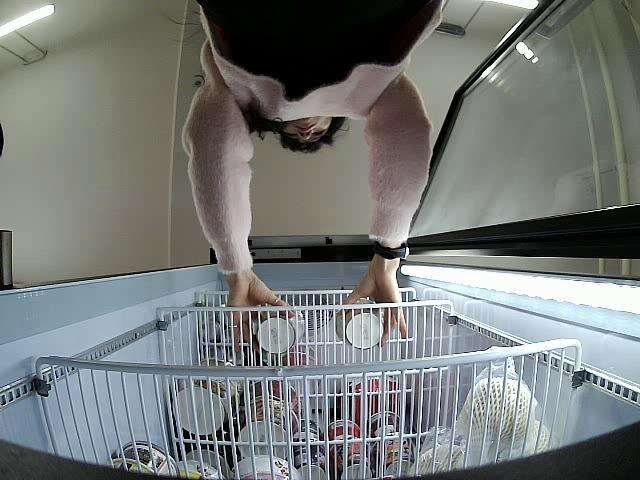04_chapagetti_S: (254, 297, 308, 353), (334, 297, 387, 350)
